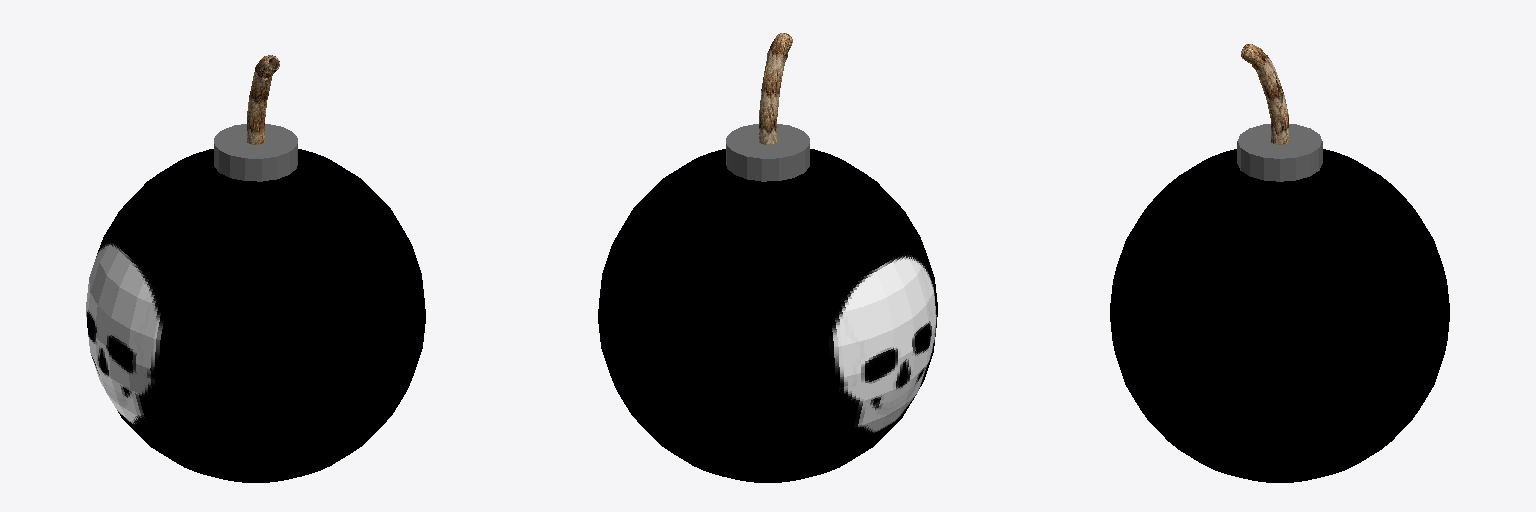
3 renders of one model, left to right at view 1: azimuth 30°, elevation 25°; view 2: azimuth 150°, elevation 25°; view 3: azimuth 270°, elevation 25°, orthographic.
Parts seen in each view (by area): view 1: Sphere, Cylinder, Cylinder_1; view 2: Sphere, Cylinder, Cylinder_1; view 3: Sphere, Cylinder, Cylinder_1.
Boxes of the visible parts, x1=… form: Sphere: x1=86, y1=149, x2=425, y2=482; Cylinder: x1=214, y1=124, x2=297, y2=181; Cylinder_1: x1=247, y1=55, x2=279, y2=144; Sphere: x1=598, y1=149, x2=937, y2=482; Cylinder: x1=726, y1=124, x2=809, y2=181; Cylinder_1: x1=759, y1=33, x2=792, y2=144; Sphere: x1=1110, y1=149, x2=1449, y2=482; Cylinder: x1=1237, y1=124, x2=1322, y2=181; Cylinder_1: x1=1241, y1=44, x2=1288, y2=144.
Size of the model in its own units: 3.76 by 5.15 by 3.76.
Materials: 3 (2 with a texture image).